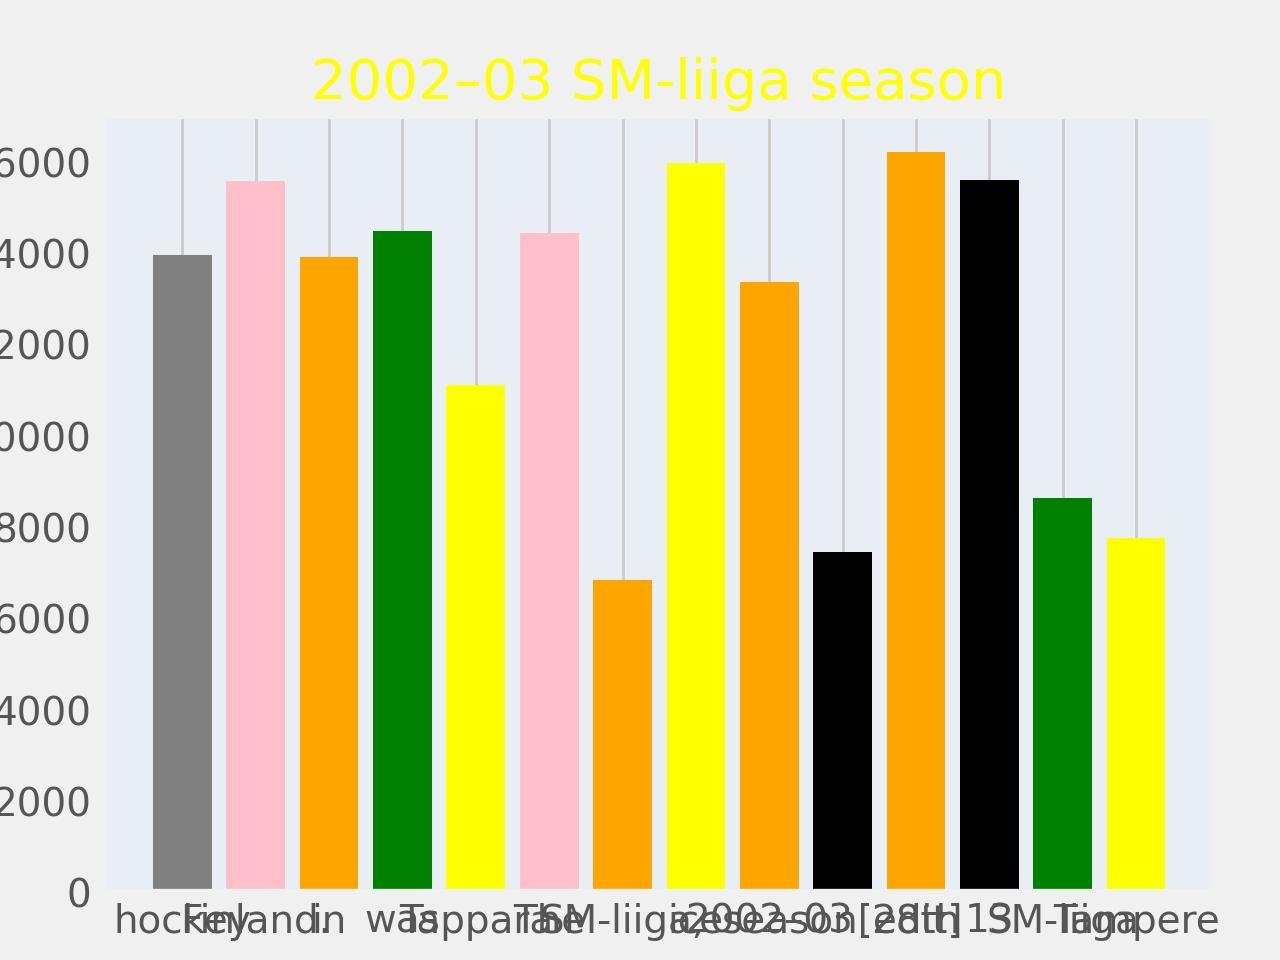axis: (0, 147, 92, 916)
rectangle: (666, 162, 726, 892), (887, 152, 945, 893), (959, 179, 1019, 893), (226, 182, 285, 892), (373, 231, 432, 893), (519, 234, 579, 892), (299, 256, 359, 892), (153, 255, 212, 893), (740, 281, 798, 892), (446, 385, 506, 892), (1033, 498, 1092, 893), (1107, 538, 1165, 893), (813, 552, 872, 892), (593, 580, 652, 893)
